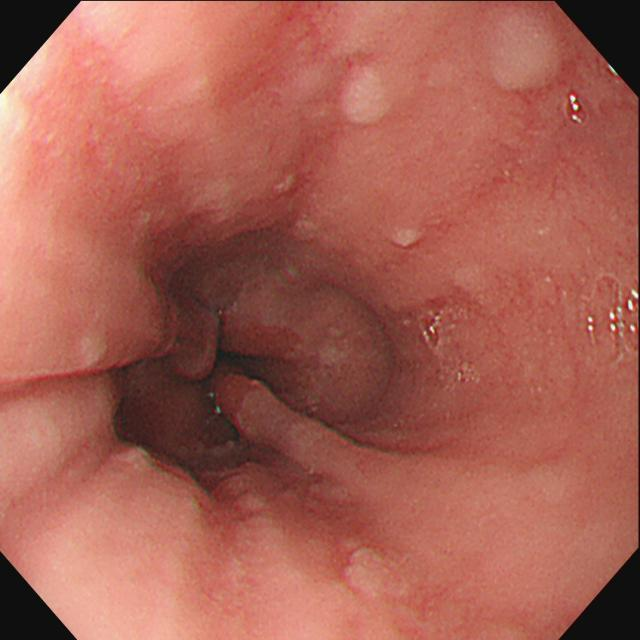I: (118, 242, 395, 481)
J: (488, 20, 560, 92), (344, 543, 406, 603), (339, 72, 396, 133), (388, 226, 425, 253)
T: (585, 274, 640, 363), (419, 305, 448, 350), (562, 90, 591, 127)
